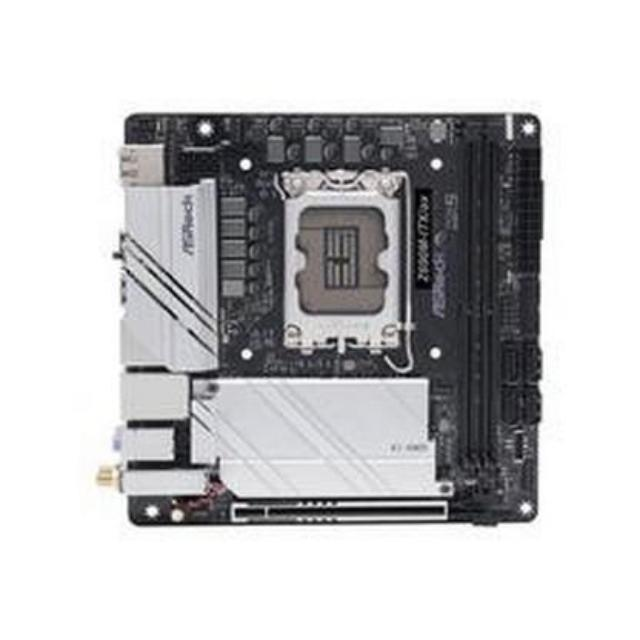Mainboard: (118, 108, 542, 524)
